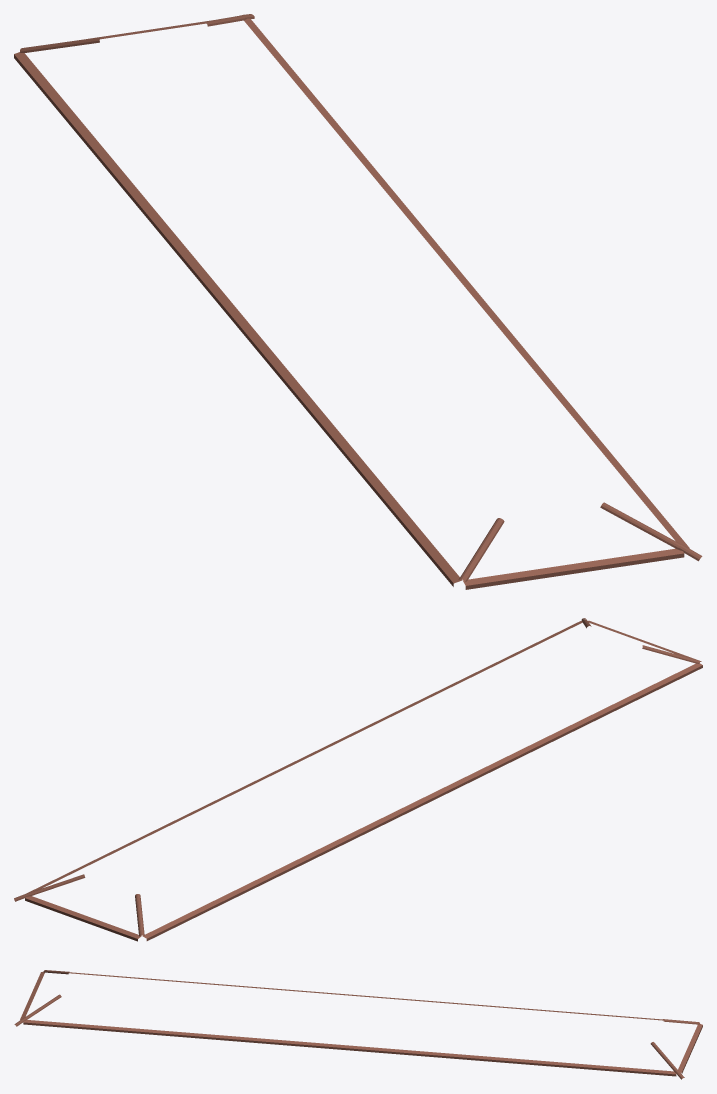
3 views of the same model, one above another, from view 1: azimuth 30°, elevation 25°; view 2: azimuth 150°, elevation 25°; view 3: azimuth 270°, elevation 25° (orthographic). The views are drawn at different scales.
Parts seen in each view (by area): view 1: detail; view 2: detail; view 3: detail.
Part boxes in pixels (x1=…): detail: x1=14, y1=14, x2=702, y2=589; detail: x1=14, y1=618, x2=702, y2=941; detail: x1=14, y1=970, x2=702, y2=1079.
Size of the model in its own units: 17.2 by 1.44 by 47.04.
